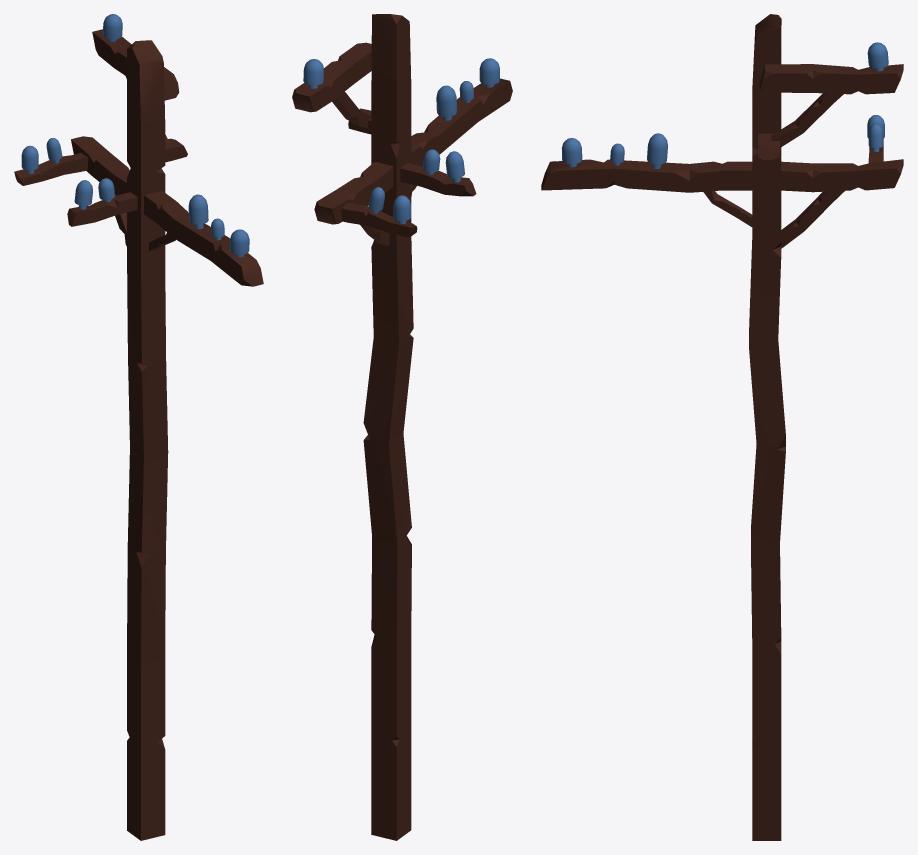
Rendered from Poteau_electrique_01_LOD0.FBX.
3 renders of one model, left to right at view 1: azimuth 30°, elevation 25°; view 2: azimuth 150°, elevation 25°; view 3: azimuth 270°, elevation 25°, orthographic. The views are drawn at different scales.
Parts seen in each view (by area): view 1: Poteau_Electrique_01_LOD0; view 2: Poteau_Electrique_01_LOD0; view 3: Poteau_Electrique_01_LOD0.
Boxes of the visible parts, x1,y1,x2,y2 form: Poteau_Electrique_01_LOD0: (14,14,263,840); Poteau_Electrique_01_LOD0: (292,14,512,840); Poteau_Electrique_01_LOD0: (541,14,903,840).
Bounding box in the file's own units: 145 × 934 × 375.
